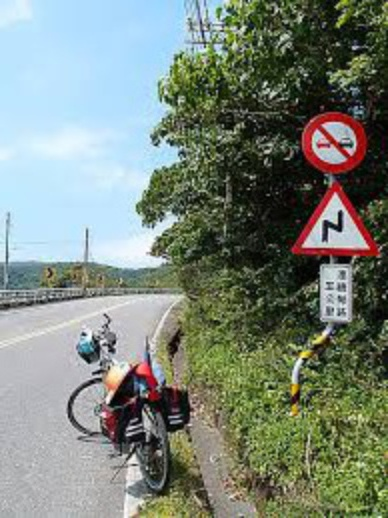Double_bend_right: (285, 175, 380, 259)
